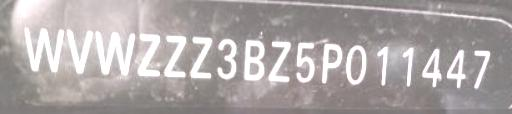letter: (21, 25, 63, 72), (95, 25, 133, 75), (65, 26, 93, 73), (135, 30, 163, 76), (317, 39, 345, 85), (466, 44, 494, 89), (188, 30, 214, 78), (266, 36, 292, 84), (240, 36, 266, 82), (418, 43, 442, 89), (367, 41, 391, 86), (393, 41, 417, 86), (216, 33, 238, 81), (164, 32, 186, 78), (293, 39, 315, 85), (344, 41, 366, 86), (444, 44, 466, 89)
